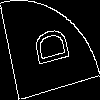D: (25, 25, 70, 70)
